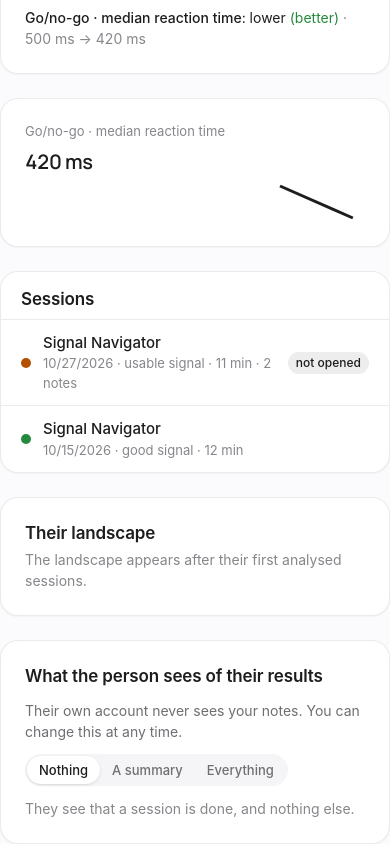
the patient's eight weeks: adherence, changes in words, measures, sessions, sharing
The width and height of the screenshot is (390, 844).
(page scrolled)
Expected: the text "(better)" is shown, [286,10,339,26]
Expected: the text "500 ms → 420 ms" is shown, [25,10,347,48]
Click the radio button labelled "A summary" at (147, 770), box [100,756,195,784]
(page scrolled)
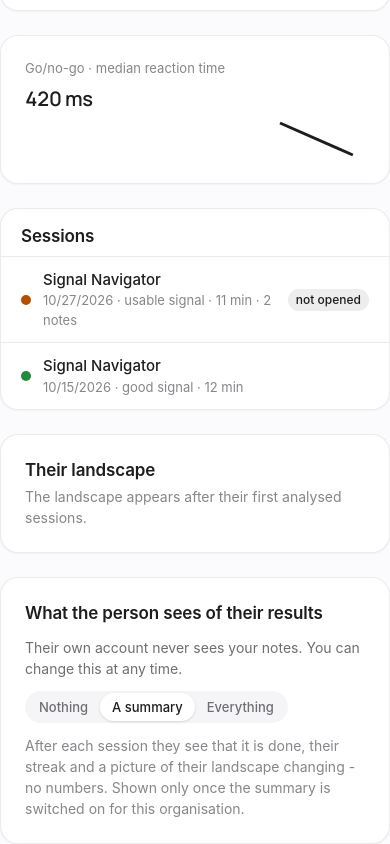
Expected: the text "After each session they see that it is done, their streak and a picture of their landscape changing - no numbers. Shown " is shown, [25,737,355,817]
